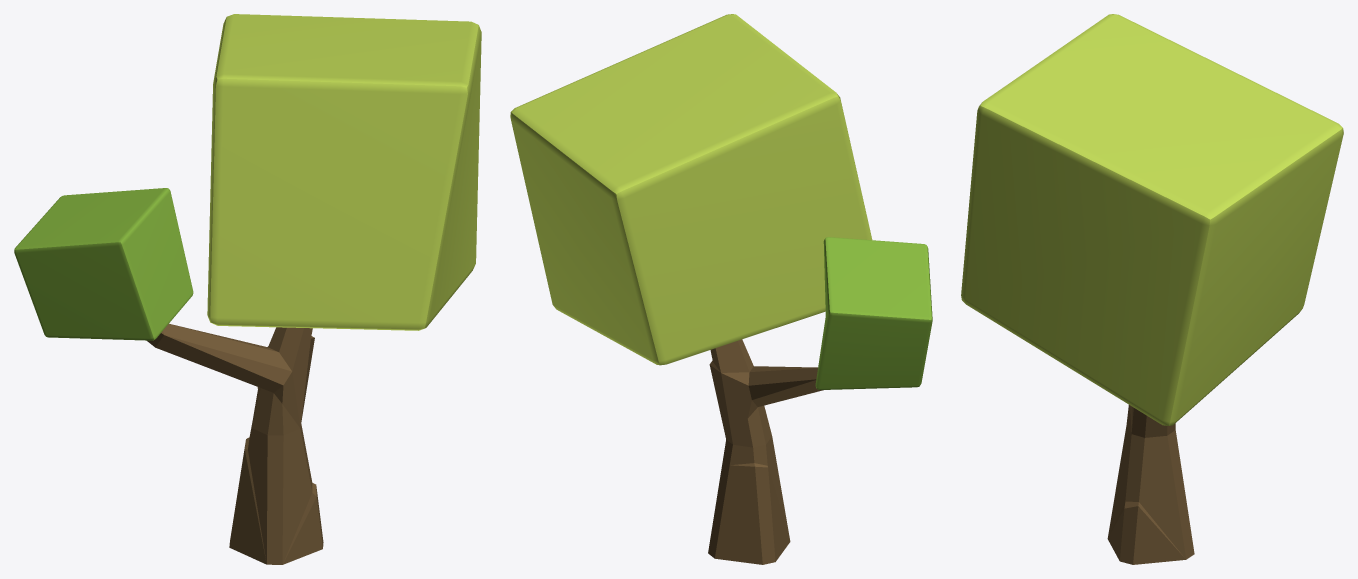
File: model_polytope_tree09.fbx
The picture shows the model from 3 angles, left to right: view 1: azimuth 30°, elevation 25°; view 2: azimuth 150°, elevation 25°; view 3: azimuth 270°, elevation 25°; orthographic projection. The views are drawn at different scales.
Visible parts, largest first — view 1: model_polytope_tree09; view 2: model_polytope_tree09; view 3: model_polytope_tree09.
Boxes of the visible parts, box(x1,y1,x2,y2) form: model_polytope_tree09: box(14, 14, 481, 564); model_polytope_tree09: box(510, 14, 932, 564); model_polytope_tree09: box(961, 14, 1343, 564).
Size of the model in its own units: 326 by 337 by 235.
